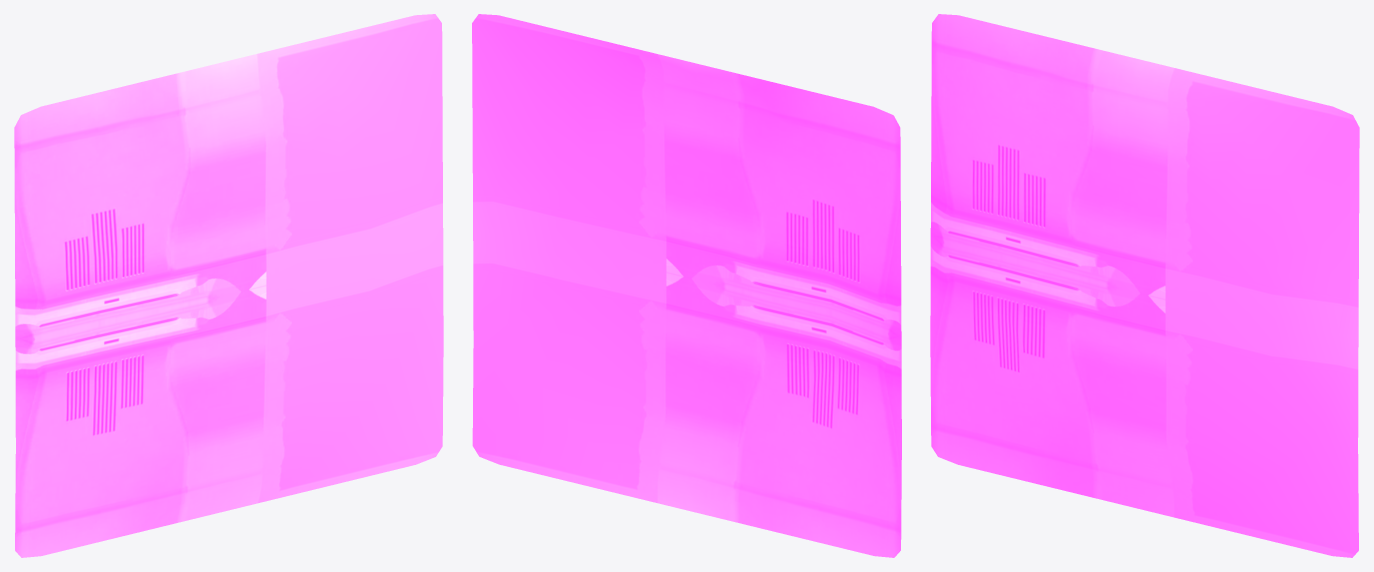
Rendered from computer-screen.glb.
3 renders of one model, left to right at view 1: azimuth 30°, elevation 25°; view 2: azimuth 150°, elevation 25°; view 3: azimuth 330°, elevation 25°, orthographic.
Visible parts, largest first — view 1: Computer_Screen; view 2: Computer_Screen; view 3: Computer_Screen.
Part boxes in pixels (x1,y1,x2,y2): Computer_Screen: [14, 14, 443, 557]; Computer_Screen: [472, 14, 901, 557]; Computer_Screen: [930, 14, 1359, 557].
Size of the model in its own units: 7.41 by 7.44 by 0.2769.
Materials: 1 (1 with a texture image).
